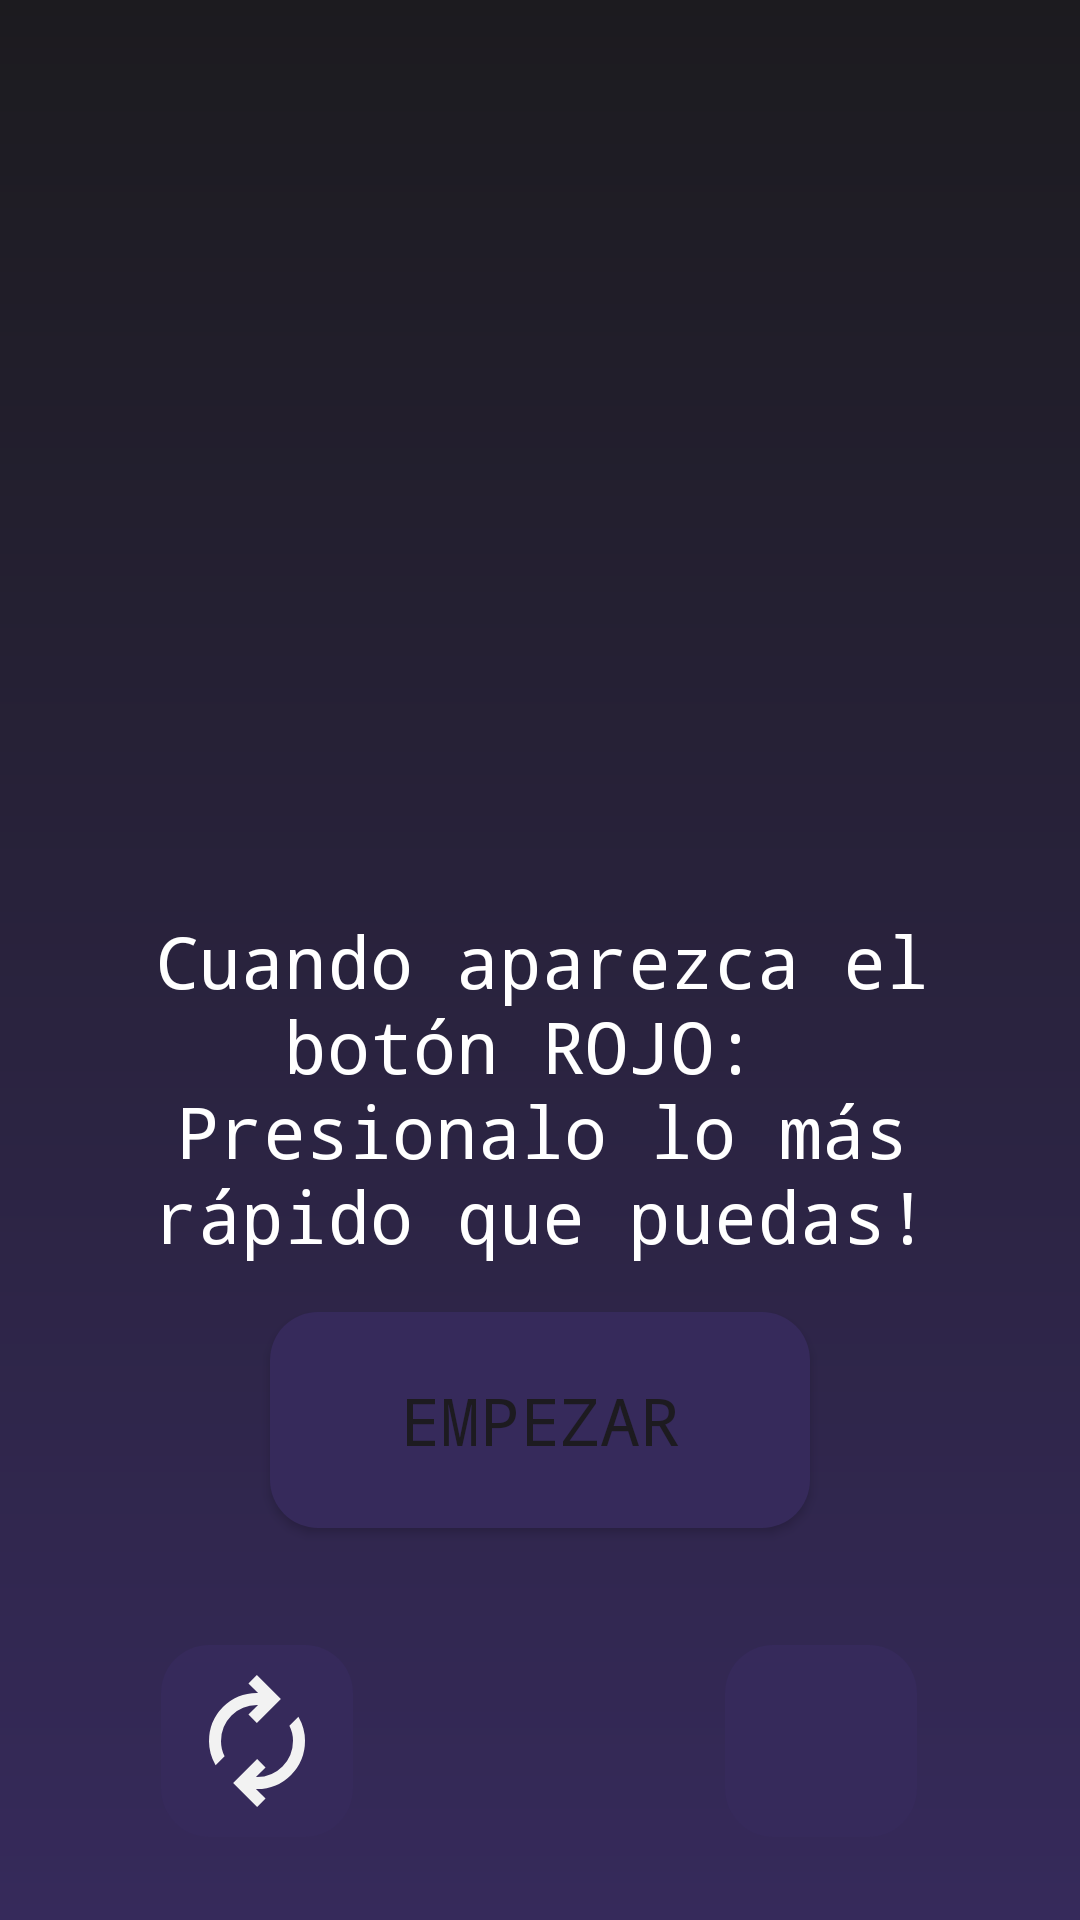

Icon click points for this 1080px x 1920px phone screenshot, format [x,y]:
Reintentar juego: [257,1741]
